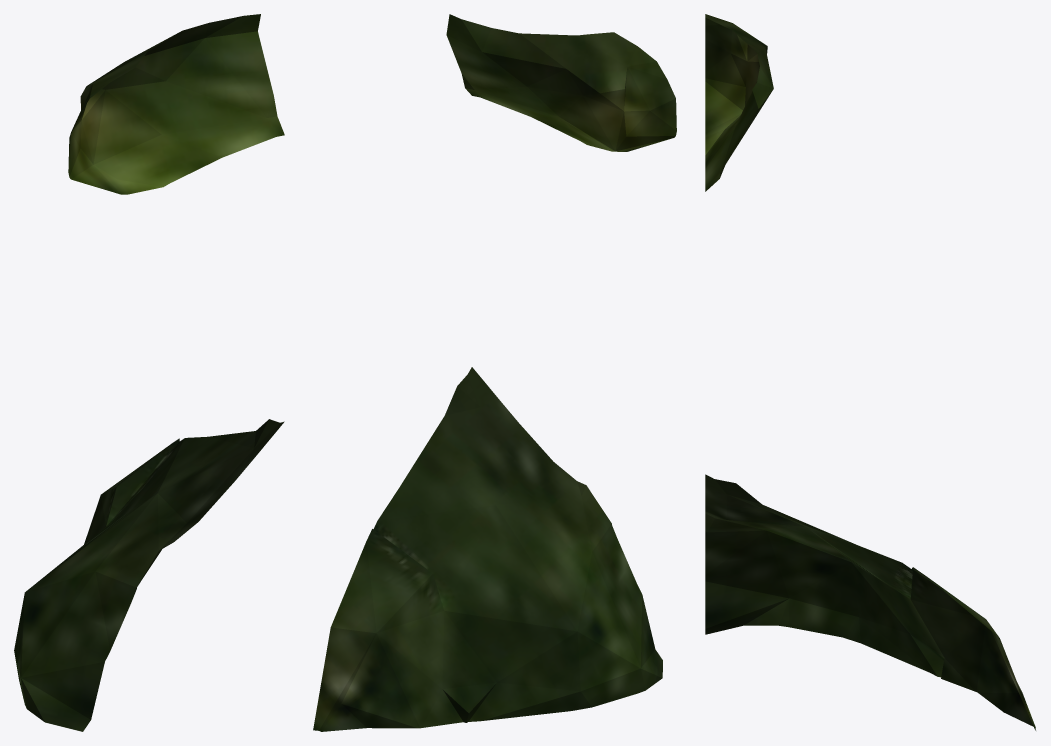
3 views of the same model, side by side, from view 1: azimuth 30°, elevation 25°; view 2: azimuth 150°, elevation 25°; view 3: azimuth 270°, elevation 25° (orthographic). The views are drawn at different scales.
Bounding box in the file's own units: 0.2974 × 0.8373 × 0.3914.
Materials: 1 (1 with a texture image).
